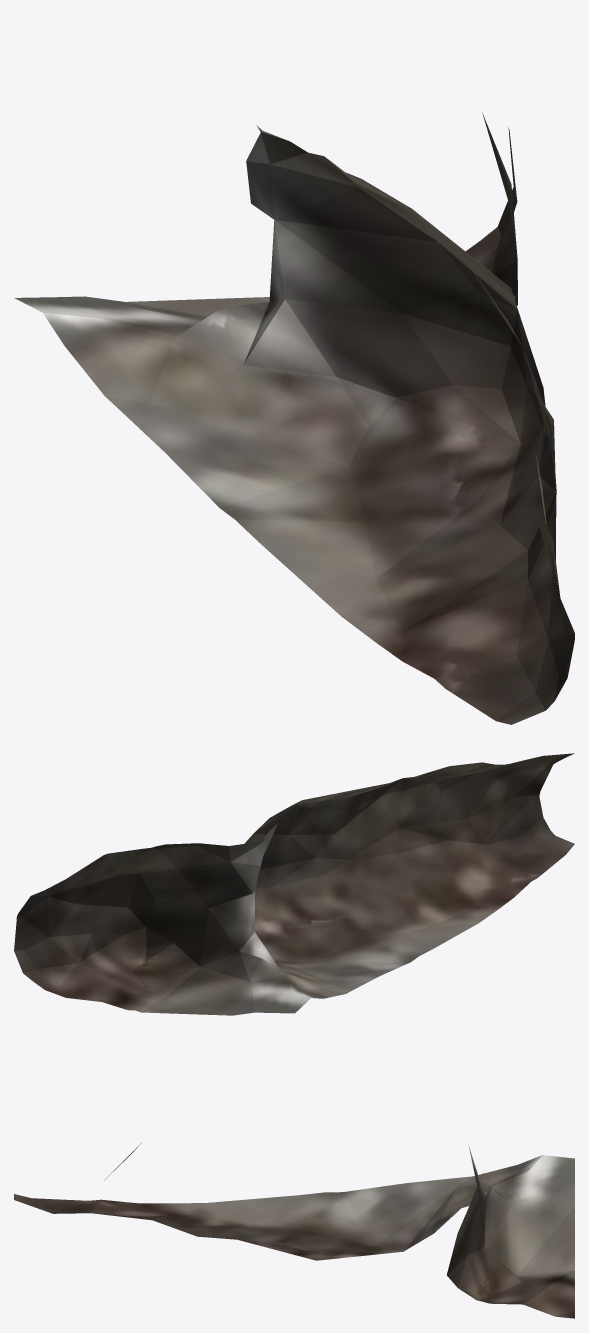
3 views of the same model, one above another, from view 1: azimuth 30°, elevation 25°; view 2: azimuth 150°, elevation 25°; view 3: azimuth 270°, elevation 25° (orthographic). The views are drawn at different scales.
Bounding box in the file's own units: 0.4855 × 0.2635 × 0.8374.
2 materials, 2 textured.
